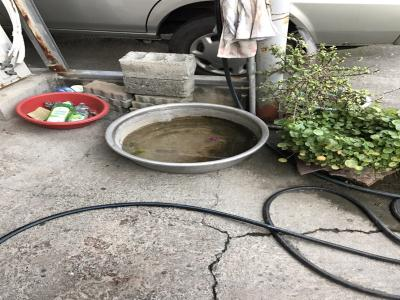bottle: (46, 99, 74, 122)
bowl: (102, 101, 275, 175), (13, 91, 112, 131)
